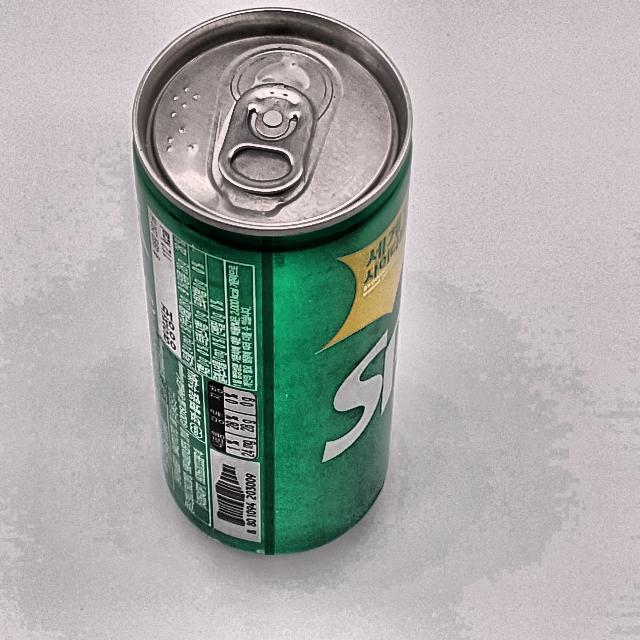sprite: (132, 9, 411, 554)
